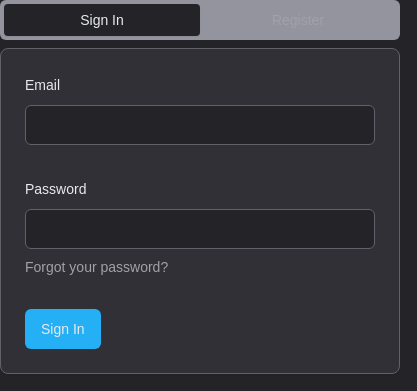
it: Register › switches to register form on tab click
Click the tab "Register".
click(298, 20)  # box [200, 4, 396, 36]
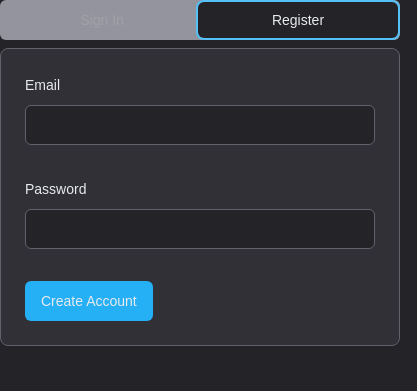
Now the button "Create Account" is shown, box [25, 281, 153, 321]
